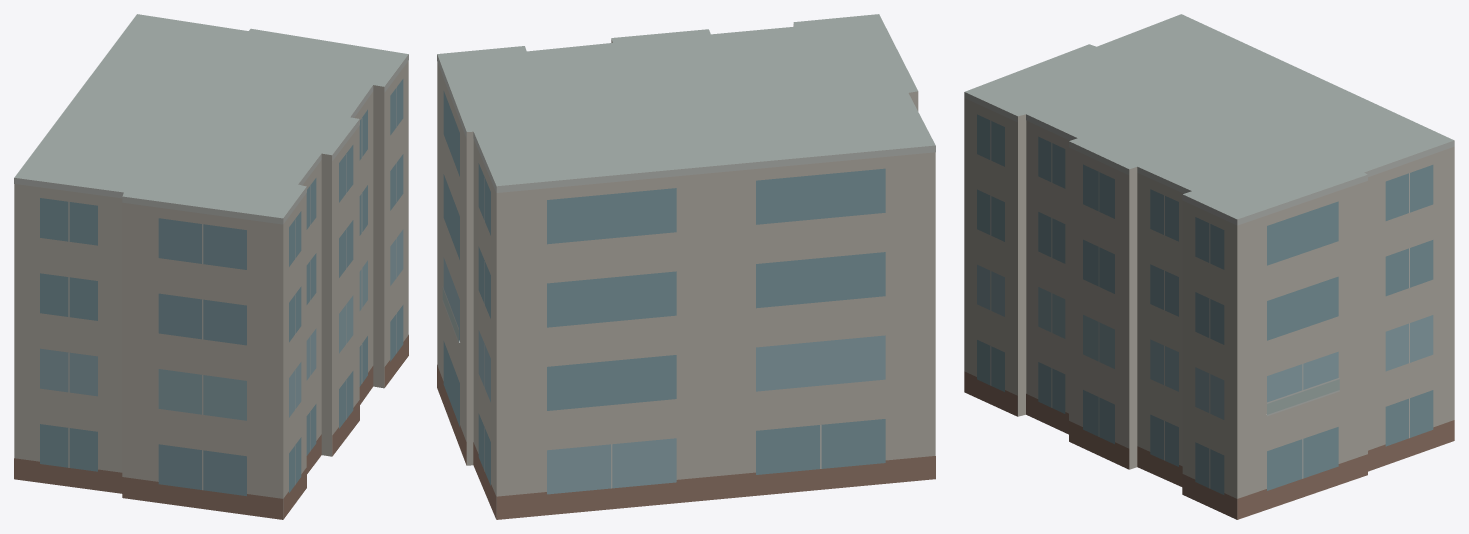
The model's file is survey-upis-32832699.glb.
3 renders of one model, left to right at view 1: azimuth 30°, elevation 25°; view 2: azimuth 150°, elevation 25°; view 3: azimuth 270°, elevation 25°, orthographic. The views are drawn at different scales.
Parts seen in each view (by area): view 1: survey-upis-32832699.tmp; view 2: survey-upis-32832699.tmp; view 3: survey-upis-32832699.tmp.
Part boxes in pixels (box(x1,y1,x2,y2)): survey-upis-32832699.tmp: box(14, 14, 408, 519); survey-upis-32832699.tmp: box(437, 14, 935, 519); survey-upis-32832699.tmp: box(964, 14, 1454, 519).
Bounding box in the file's own units: 17.54 × 11.95 × 17.68.
